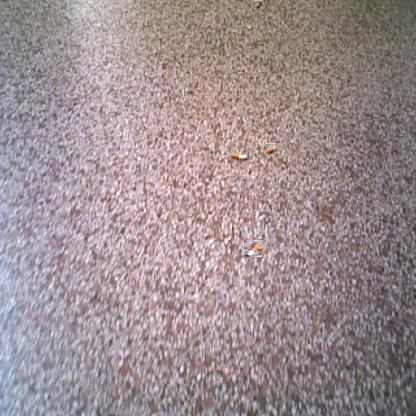dirty: (244, 239, 262, 257), (230, 152, 248, 160), (264, 143, 276, 154), (254, 1, 263, 9)
